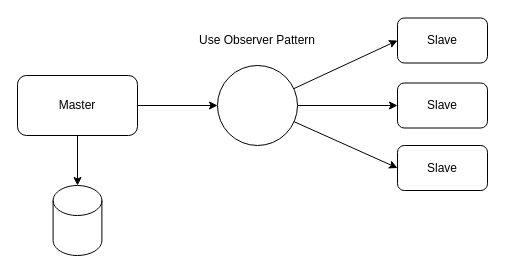
The diagram is 505 pixels wide and 273 high, and some of its shapes have lost their labels. The shapes that lost their labels are listed below. From the top down, each one's box as (x1, y1, x2, y2) in pixels, then its label:
(216, 64, 298, 146): Notifier
(52, 184, 102, 256): DB
